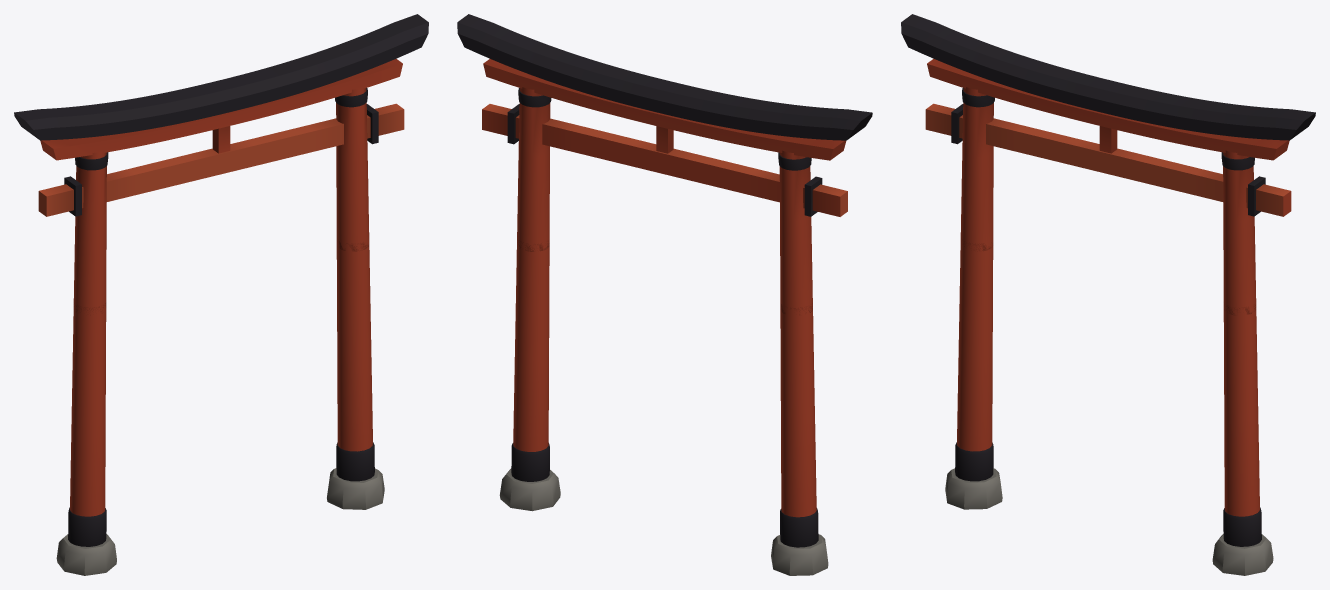
File: torii_senbon.glb
The picture shows the model from 3 angles, left to right: view 1: azimuth 30°, elevation 25°; view 2: azimuth 150°, elevation 25°; view 3: azimuth 330°, elevation 25°; orthographic projection.
Parts seen in each view (by area): view 1: torii; view 2: torii; view 3: torii.
Boxes of the visible parts, x1,y1,x2,y2 form: torii: (14,14,428,575); torii: (457,14,872,575); torii: (901,14,1315,575).
Size of what is drawn, in the model's own units: 2.58 by 2.83 by 0.3344.
